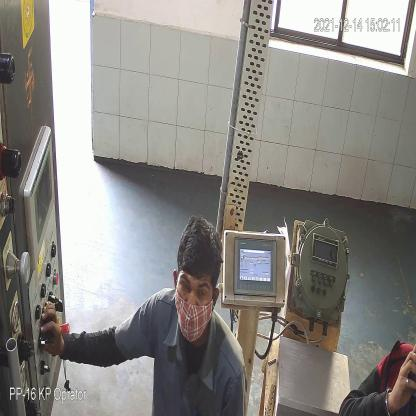no_goggles: (178, 274, 210, 306)
